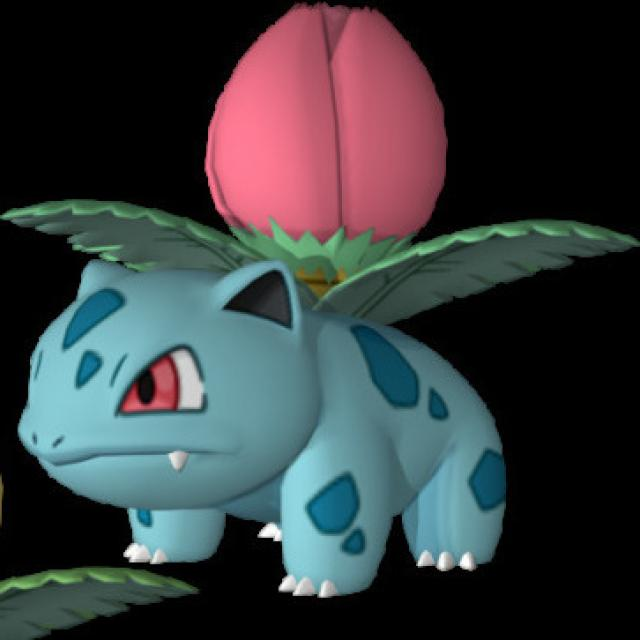Ivysaur: (7, 3, 506, 597)
